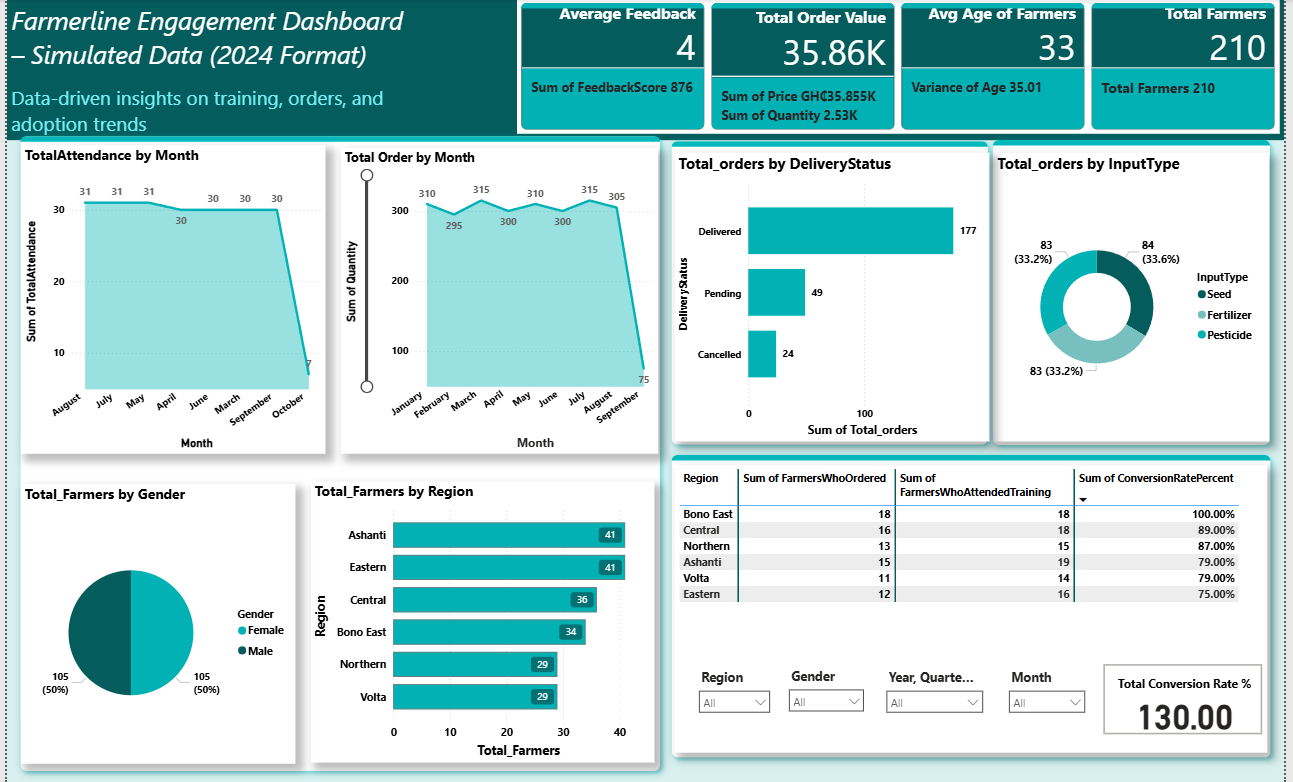

What the dashboard file says about the page in this screenshot:
{"tool":"powerbi","page":{"name":"Page 1","canvas":[1600,1000],"ordinal":0},"visuals":[{"type":"textbox","box":[0,0,1599.9,176.9],"z":0},{"type":"cardVisual","fields":{"Data":["Sum(Total Farmers by Region.Total_Farmers)"]},"box":[0,155,835.9,829.7],"z":1000},{"type":"cardVisual","fields":{"Data":["Sum(Total Farmers by Region.Total_Farmers)"]},"box":[1217.9,159.7,382,416.4],"z":2000},{"type":"cardVisual","fields":{"Data":["Sum(Total Farmers by Region.Total_Farmers)"]},"box":[815.6,554.2,784.3,413.3],"z":3000},{"type":"barChart","fields":{"Category":["Total Farmers by Region.Region"],"Y":["Sum(Total Farmers by Region.Total_Farmers)"]},"box":[380.4,604.3,430.5,352.2],"z":4000},{"type":"pieChart","title":"Total_Farmers by Gender","fields":{"Category":["Gender Distribution.Gender"],"Y":["Sum(Gender Distribution.No_of_Farmers)"]},"box":[17.2,607.4,344.4,350.7],"z":5000},{"type":"donutChart","title":"Total_orders by InputType","fields":{"Category":["Orders by Input Type.InputType"],"Y":["Sum(Orders by Input Type.Total_orders)"]},"box":[1235.1,192.5,346,361.6],"z":6000},{"type":"tableEx","fields":{"Values":["Conversion Rate by Region.Region","Sum(Conversion Rate by Region.FarmersWhoOrdered)","Sum(Conversion Rate by Region.FarmersWhoAttendedTraining)","Sum(Conversion Rate by Region.ConversionRatePercent)"]},"box":[835.9,583.9,742,360.1],"z":7000},{"type":"cardVisual","fields":{"Data":["Sum(Total Farmers by Region.Total_Farmers)"]},"box":[815.6,161.2,430.5,414.8],"z":8000},{"type":"barChart","title":"Total_orders by DeliveryStatus","fields":{"Category":["Orders by Delivery Status.DeliveryStatus"],"Y":["Sum(Orders by Delivery Status.Total_orders)"]},"box":[835.9,192.5,394.5,361.6],"z":9000},{"type":"cardVisual","fields":{"Data":["TrainingAttendance.Average Feedback Score","InputOrders.Total Order Value","FarmerRegistration.Avg Age of Farmers","FarmerRegistration.Total Farmers"]},"box":[638.7,0,954.9,169.1],"z":10000},{"type":"slicer","fields":{"Values":["FarmerRegistration.Region"]},"box":[856.3,832.8,109.6,86.1],"z":11000},{"type":"slicer","fields":{"Values":["FarmerRegistration.Gender"]},"box":[969,831.3,114.3,87.7],"z":12000},{"type":"cardVisual","fields":{"Data":["Conversion Rate by Region.Total Conversion Rate %"]},"box":[1368.2,828.1,209.8,98.6],"z":13000},{"type":"lineChart","title":"Total Order by Month","fields":{"Y":["Sum(InputOrders.Quantity)"],"Category":["InputOrders.OrderDate.Variation.Date Hierarchy.Month"]},"box":[418,186.3,397.6,383.5],"z":14000},{"type":"slicer","fields":{"Values":["InputOrders.OrderDate.Variation.Date Hierarchy.Year","InputOrders.OrderDate.Variation.Date Hierarchy.Quarter","InputOrders.OrderDate.Variation.Date Hierarchy.Month","InputOrders.OrderDate.Variation.Date Hierarchy.Day"]},"box":[1091.1,832.8,140.9,86.1],"z":15000},{"type":"slicer","fields":{"Values":["InputOrders.OrderDate.Variation.Date Hierarchy.Month"]},"box":[1244.5,832.8,115.8,83],"z":16000},{"type":"lineChart","title":"TotalAttendance by Month","fields":{"Y":["Sum(Attendance by Month.TotalAttendance)"],"Category":["Attendance by Month.Month"]},"box":[17.2,183.2,382,386.7],"z":17000}]}

Visuals, with their boxes in screenshot pixels (x1, y1, x2, y2):
textbox: {"x1": 3, "y1": 0, "x2": 1281, "y2": 141}
cardVisual - Sum(Total Farmers by Region.Total_Farmers): {"x1": 3, "y1": 124, "x2": 671, "y2": 781}
cardVisual - Sum(Total Farmers by Region.Total_Farmers): {"x1": 976, "y1": 128, "x2": 1281, "y2": 460}
cardVisual - Sum(Total Farmers by Region.Total_Farmers): {"x1": 655, "y1": 443, "x2": 1281, "y2": 773}
barChart - Total Farmers by Region.Region x Sum(Total Farmers by Region.Total_Farmers): {"x1": 307, "y1": 483, "x2": 651, "y2": 764}
"Total_Farmers by Gender" pieChart: {"x1": 17, "y1": 485, "x2": 292, "y2": 765}
"Total_orders by InputType" donutChart: {"x1": 990, "y1": 154, "x2": 1266, "y2": 443}
tableEx - Conversion Rate by Region.Region x Sum(Conversion Rate by Region.FarmersWhoOrdered): {"x1": 671, "y1": 466, "x2": 1264, "y2": 754}
cardVisual - Sum(Total Farmers by Region.Total_Farmers): {"x1": 655, "y1": 129, "x2": 999, "y2": 460}
"Total_orders by DeliveryStatus" barChart: {"x1": 671, "y1": 154, "x2": 986, "y2": 443}
cardVisual - TrainingAttendance.Average Feedback Score x InputOrders.Total Order Value: {"x1": 513, "y1": 0, "x2": 1276, "y2": 135}
slicer - FarmerRegistration.Region: {"x1": 687, "y1": 665, "x2": 775, "y2": 734}
slicer - FarmerRegistration.Gender: {"x1": 777, "y1": 664, "x2": 869, "y2": 734}
cardVisual - Conversion Rate by Region.Total Conversion Rate %: {"x1": 1096, "y1": 661, "x2": 1264, "y2": 740}
"Total Order by Month" lineChart: {"x1": 337, "y1": 149, "x2": 655, "y2": 455}
slicer - InputOrders.OrderDate.Variation.Date Hierarchy.Year x InputOrders.OrderDate.Variation.Date Hierarchy.Quarter: {"x1": 875, "y1": 665, "x2": 987, "y2": 734}
slicer - InputOrders.OrderDate.Variation.Date Hierarchy.Month: {"x1": 997, "y1": 665, "x2": 1090, "y2": 731}
"TotalAttendance by Month" lineChart: {"x1": 17, "y1": 146, "x2": 322, "y2": 455}
